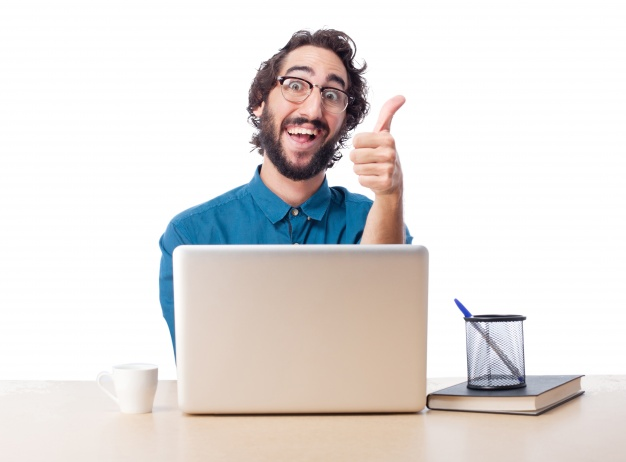thumbsup: (350, 94, 406, 190)
